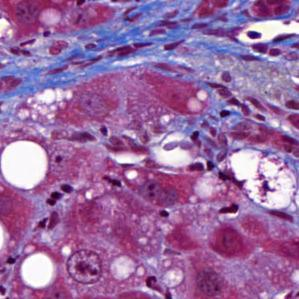inflammation: (44, 180, 76, 207), (188, 157, 219, 177)
